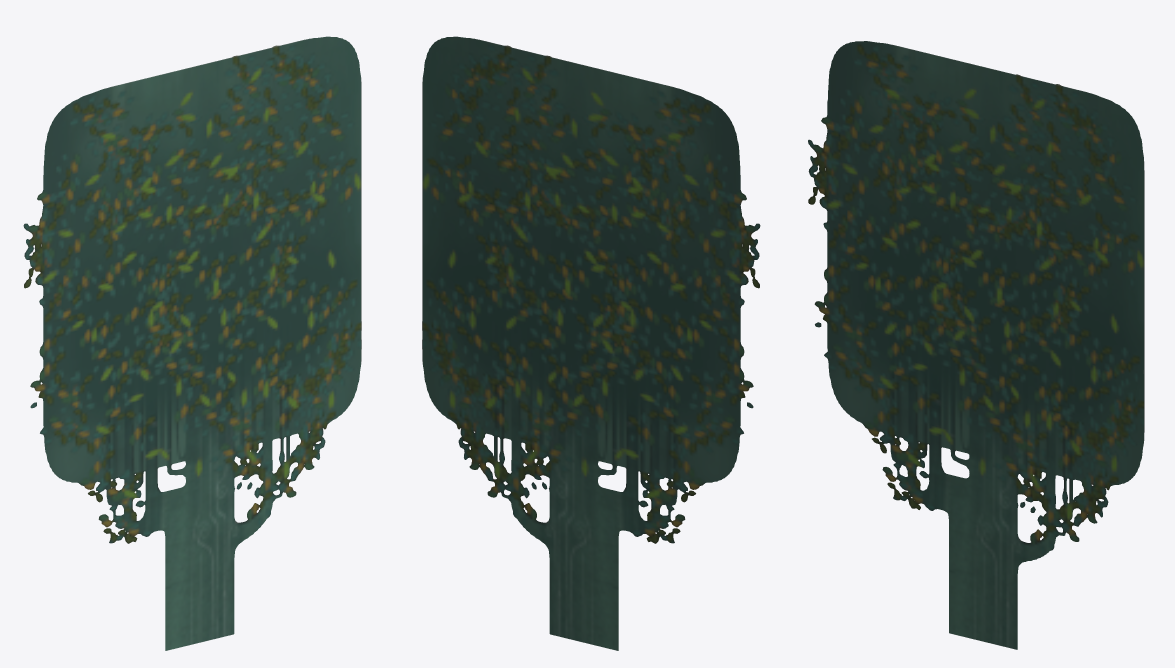
Rendered from Arbre_02.fbx.
3 renders of one model, left to right at view 1: azimuth 30°, elevation 25°; view 2: azimuth 150°, elevation 25°; view 3: azimuth 330°, elevation 25°, orthographic.
Parts seen in each view (by area): view 1: Arbre_02; view 2: Arbre_02; view 3: Arbre_02.
Boxes of the visible parts, x1,y1,x2,y2 form: Arbre_02: (23, 36, 361, 650); Arbre_02: (422, 36, 760, 650); Arbre_02: (808, 41, 1144, 649).
Size of the model in its own units: 2.74 by 4.2 by 0.
